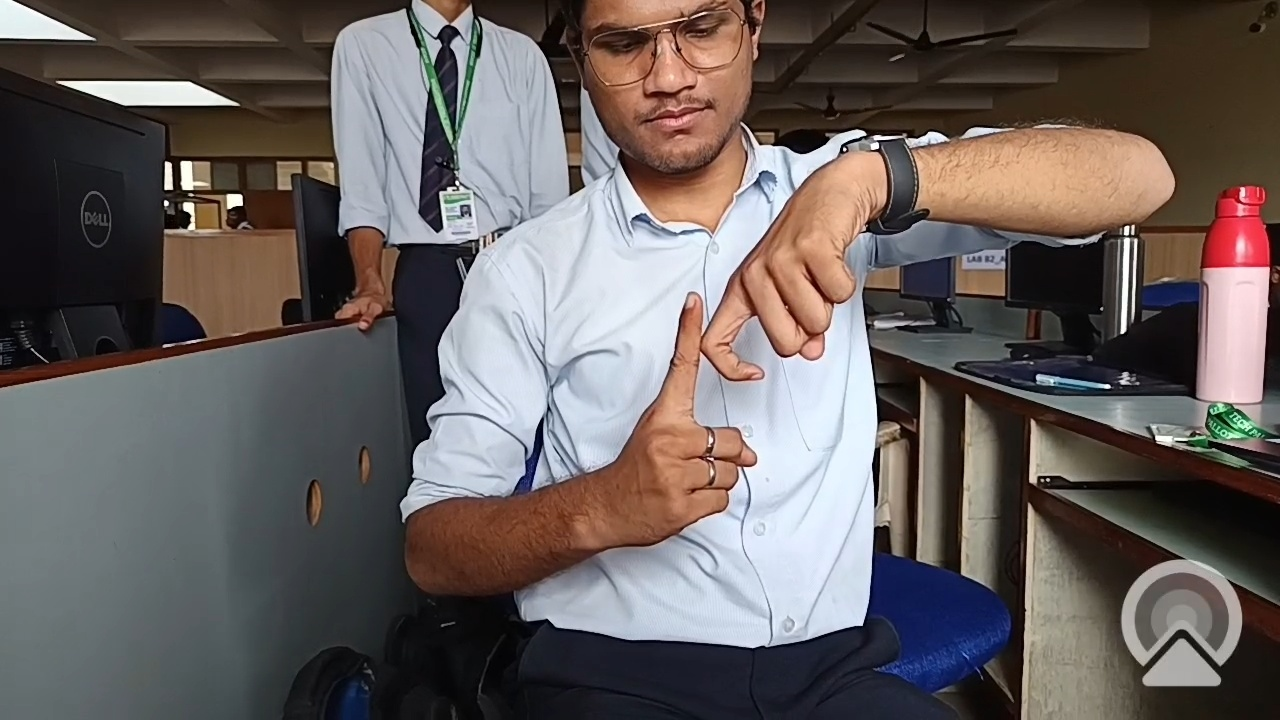K: (570, 181, 920, 574)
